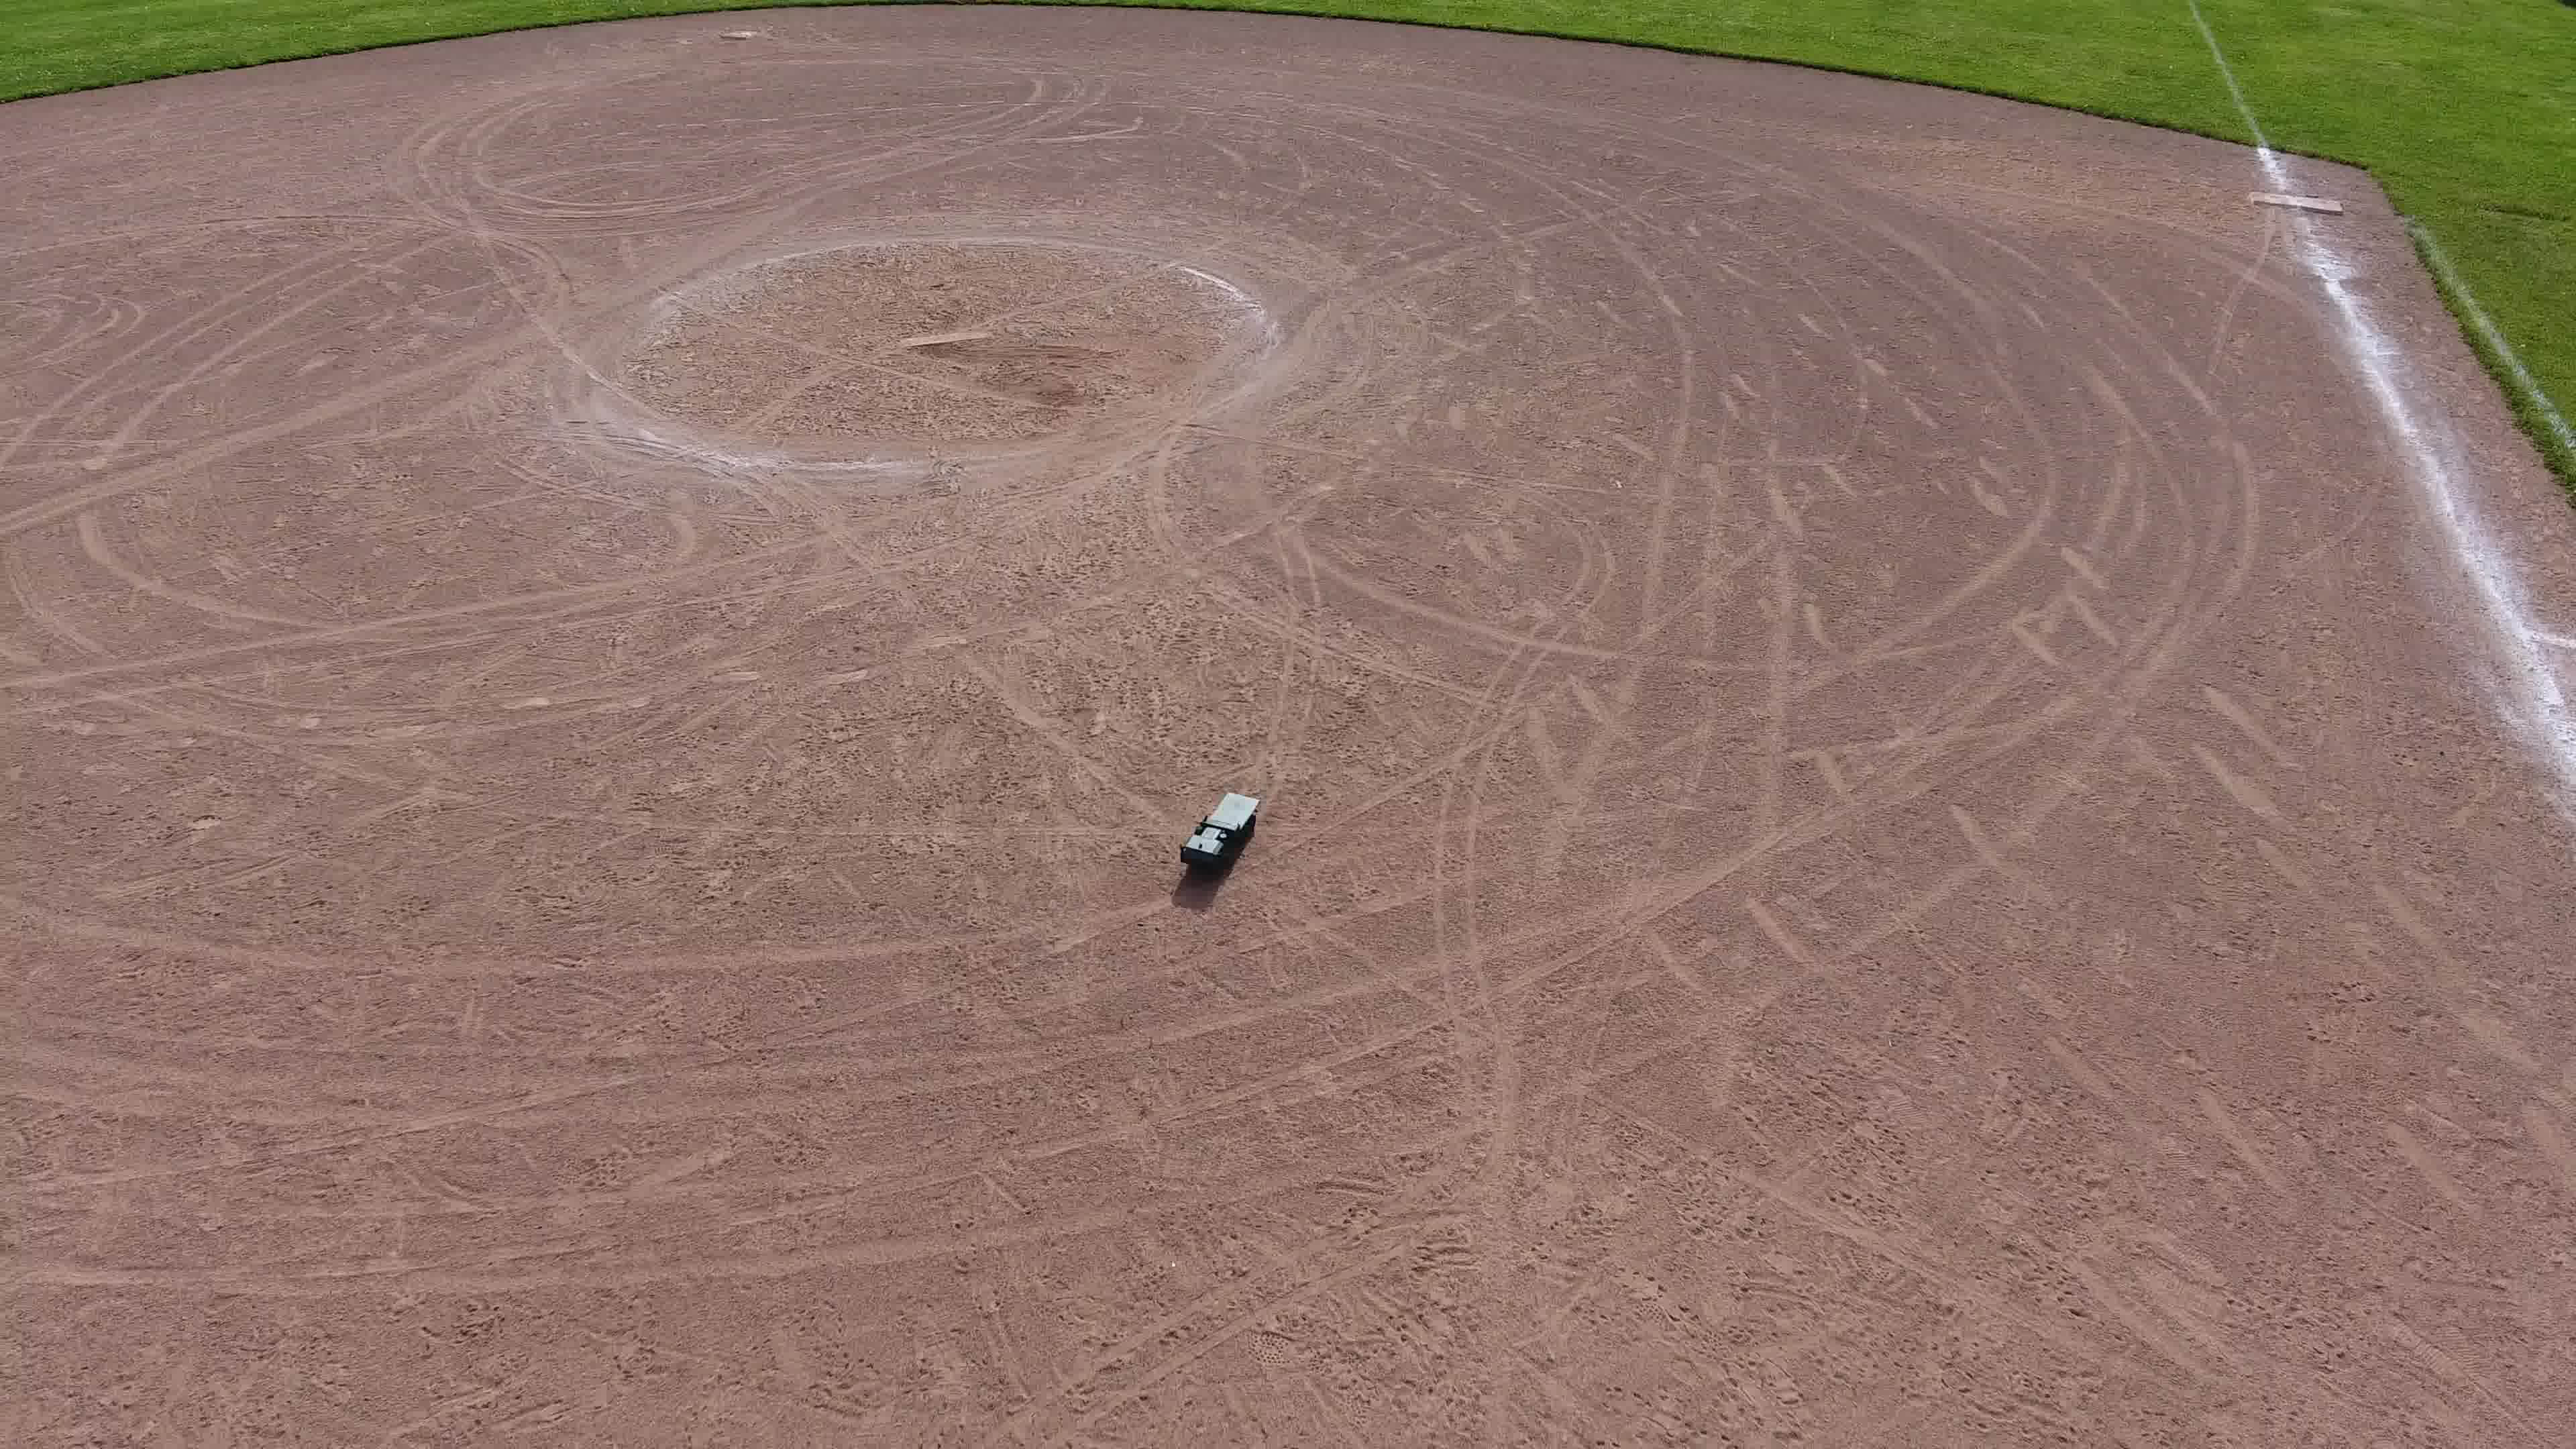transporter9: (1175, 787, 1265, 876)
